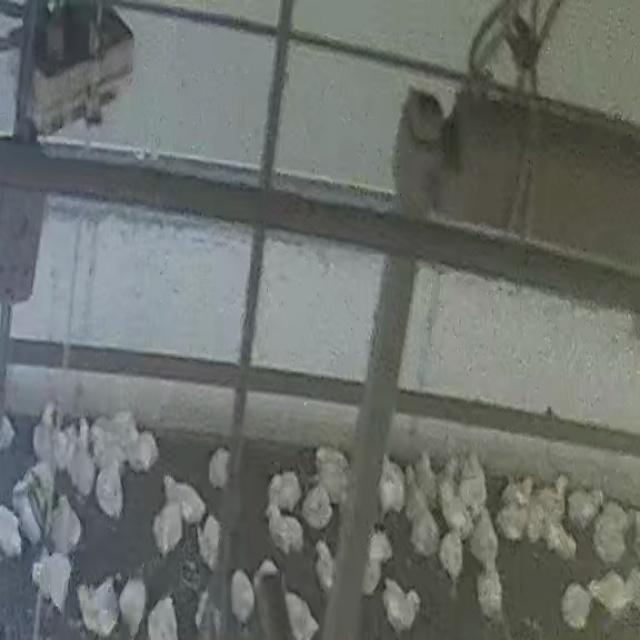chicken: (75, 573, 117, 636), (382, 574, 423, 635), (161, 468, 205, 524), (476, 560, 513, 622), (263, 504, 306, 557), (50, 493, 83, 554), (95, 458, 126, 522), (150, 501, 185, 557), (121, 563, 147, 637), (558, 581, 596, 631), (441, 530, 467, 586)
